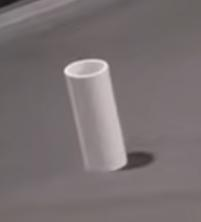coral: (63, 58, 127, 172)
